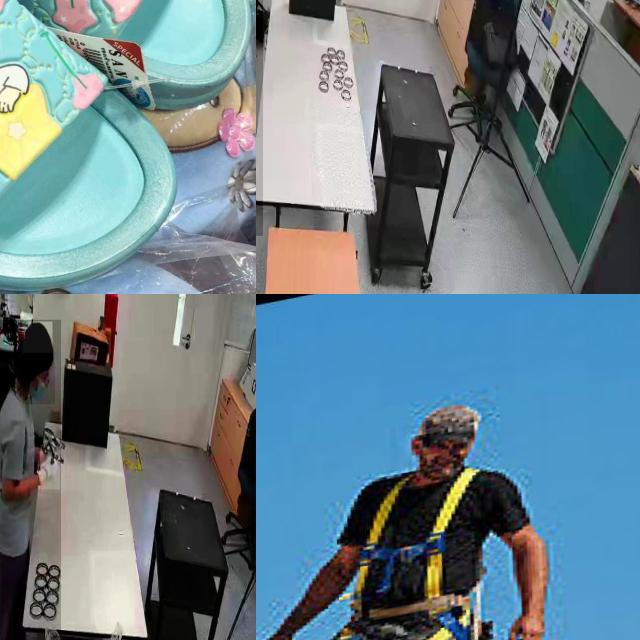Harness: (356, 468, 482, 616)
Sandals: (0, 0, 256, 294)
face_mask: (23, 362, 55, 404)
hand_glove: (39, 452, 60, 489)
head_nohelmet: (23, 322, 53, 354)
person: (0, 319, 61, 640)
